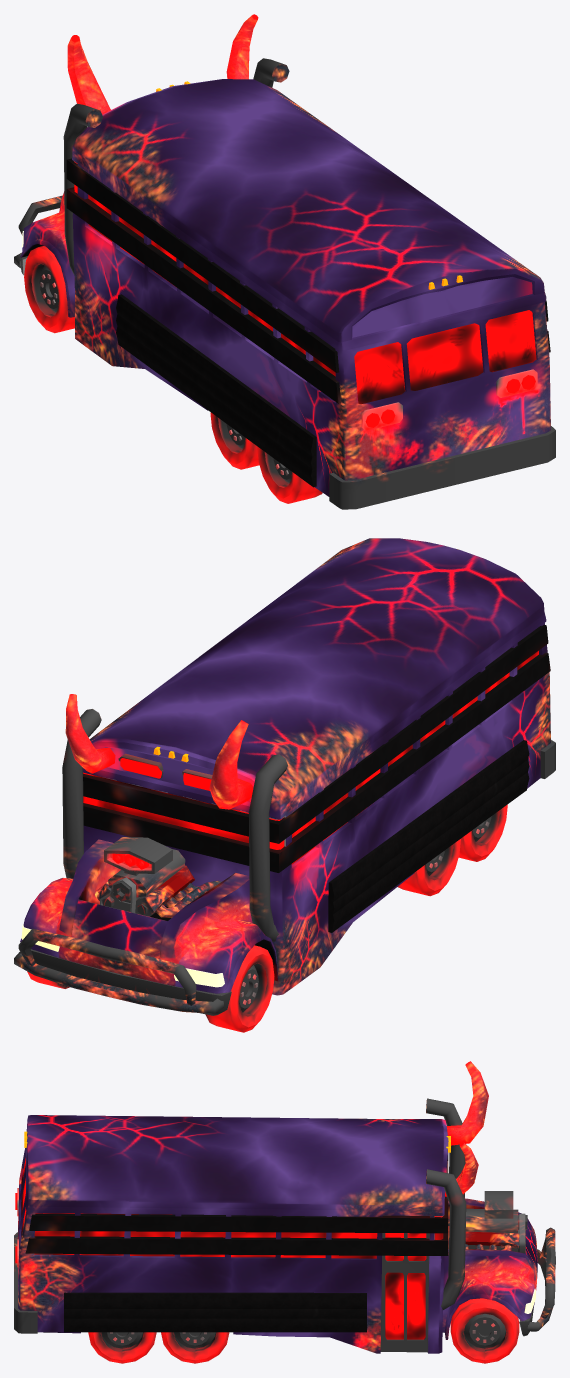
The model's file is Schoolbus-Mutated.fbx.
3 renders of one model, top to bottom at view 1: azimuth 30°, elevation 25°; view 2: azimuth 150°, elevation 25°; view 3: azimuth 270°, elevation 25°, orthographic. The views are drawn at different scales.
Visible parts, largest first — view 1: SchoolBusMutated, SchoolBusMutatedW-FL, SchoolBusMutatedW-BL2, SchoolBusMutatedW-BL1; view 2: SchoolBusMutated, SchoolBusMutatedW-FL, SchoolBusMutatedW-BL1, SchoolBusMutatedW-BL2; view 3: SchoolBusMutated, SchoolBusMutatedW-FR, SchoolBusMutatedW-BR2, SchoolBusMutatedW-BR1.
Boxes of the visible parts, x1,y1,x2,y2 form: SchoolBusMutated: (14,14,555,509); SchoolBusMutatedW-FL: (24,246,74,333); SchoolBusMutatedW-BL2: (257,446,322,503); SchoolBusMutatedW-BL1: (210,412,259,469); SchoolBusMutated: (14,538,555,1015); SchoolBusMutatedW-FL: (205,945,274,1032); SchoolBusMutatedW-BL1: (398,839,460,896); SchoolBusMutatedW-BL2: (458,804,507,861); SchoolBusMutated: (14,1061,555,1353); SchoolBusMutatedW-FR: (450,1298,519,1363); SchoolBusMutatedW-BR2: (88,1332,156,1363); SchoolBusMutatedW-BR1: (161,1332,229,1363).
Bounding box in the file's own units: 1053 × 1371 × 2913.
